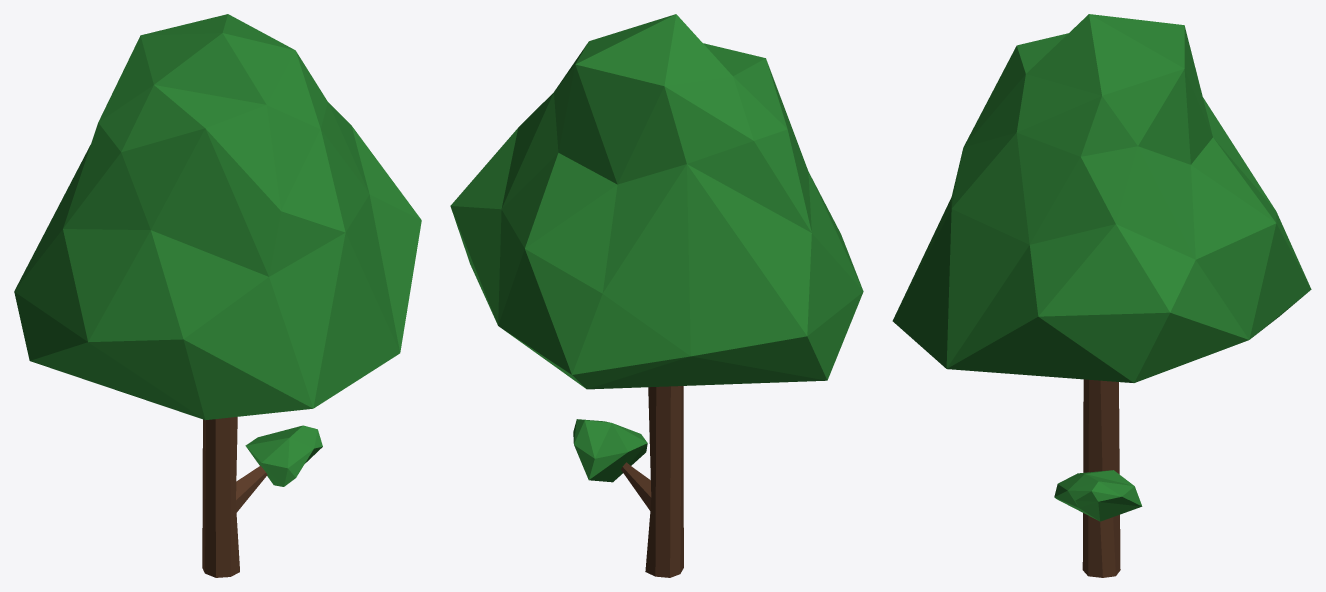
Rendered from Tree_45_Green.fbx.
3 views of the same model, side by side, from view 1: azimuth 30°, elevation 25°; view 2: azimuth 150°, elevation 25°; view 3: azimuth 270°, elevation 25° (orthographic).
Parts seen in each view (by area): view 1: Tree_45_Green_Part_1, Tree_45_Green_Part_3, Tree_45_Green_Part_2; view 2: Tree_45_Green_Part_1, Tree_45_Green_Part_3, Tree_45_Green_Part_2; view 3: Tree_45_Green_Part_1, Tree_45_Green_Part_3, Tree_45_Green_Part_2.
Boxes of the visible parts, x1,y1,x2,y2 form: Tree_45_Green_Part_1: [14, 14, 421, 420]; Tree_45_Green_Part_3: [202, 417, 267, 577]; Tree_45_Green_Part_2: [245, 425, 322, 486]; Tree_45_Green_Part_1: [450, 14, 863, 389]; Tree_45_Green_Part_3: [621, 386, 683, 577]; Tree_45_Green_Part_2: [573, 419, 647, 482]; Tree_45_Green_Part_1: [892, 14, 1311, 382]; Tree_45_Green_Part_3: [1082, 379, 1120, 577]; Tree_45_Green_Part_2: [1054, 470, 1142, 521].
Size of the model in its own units: 549 by 807 by 554.
